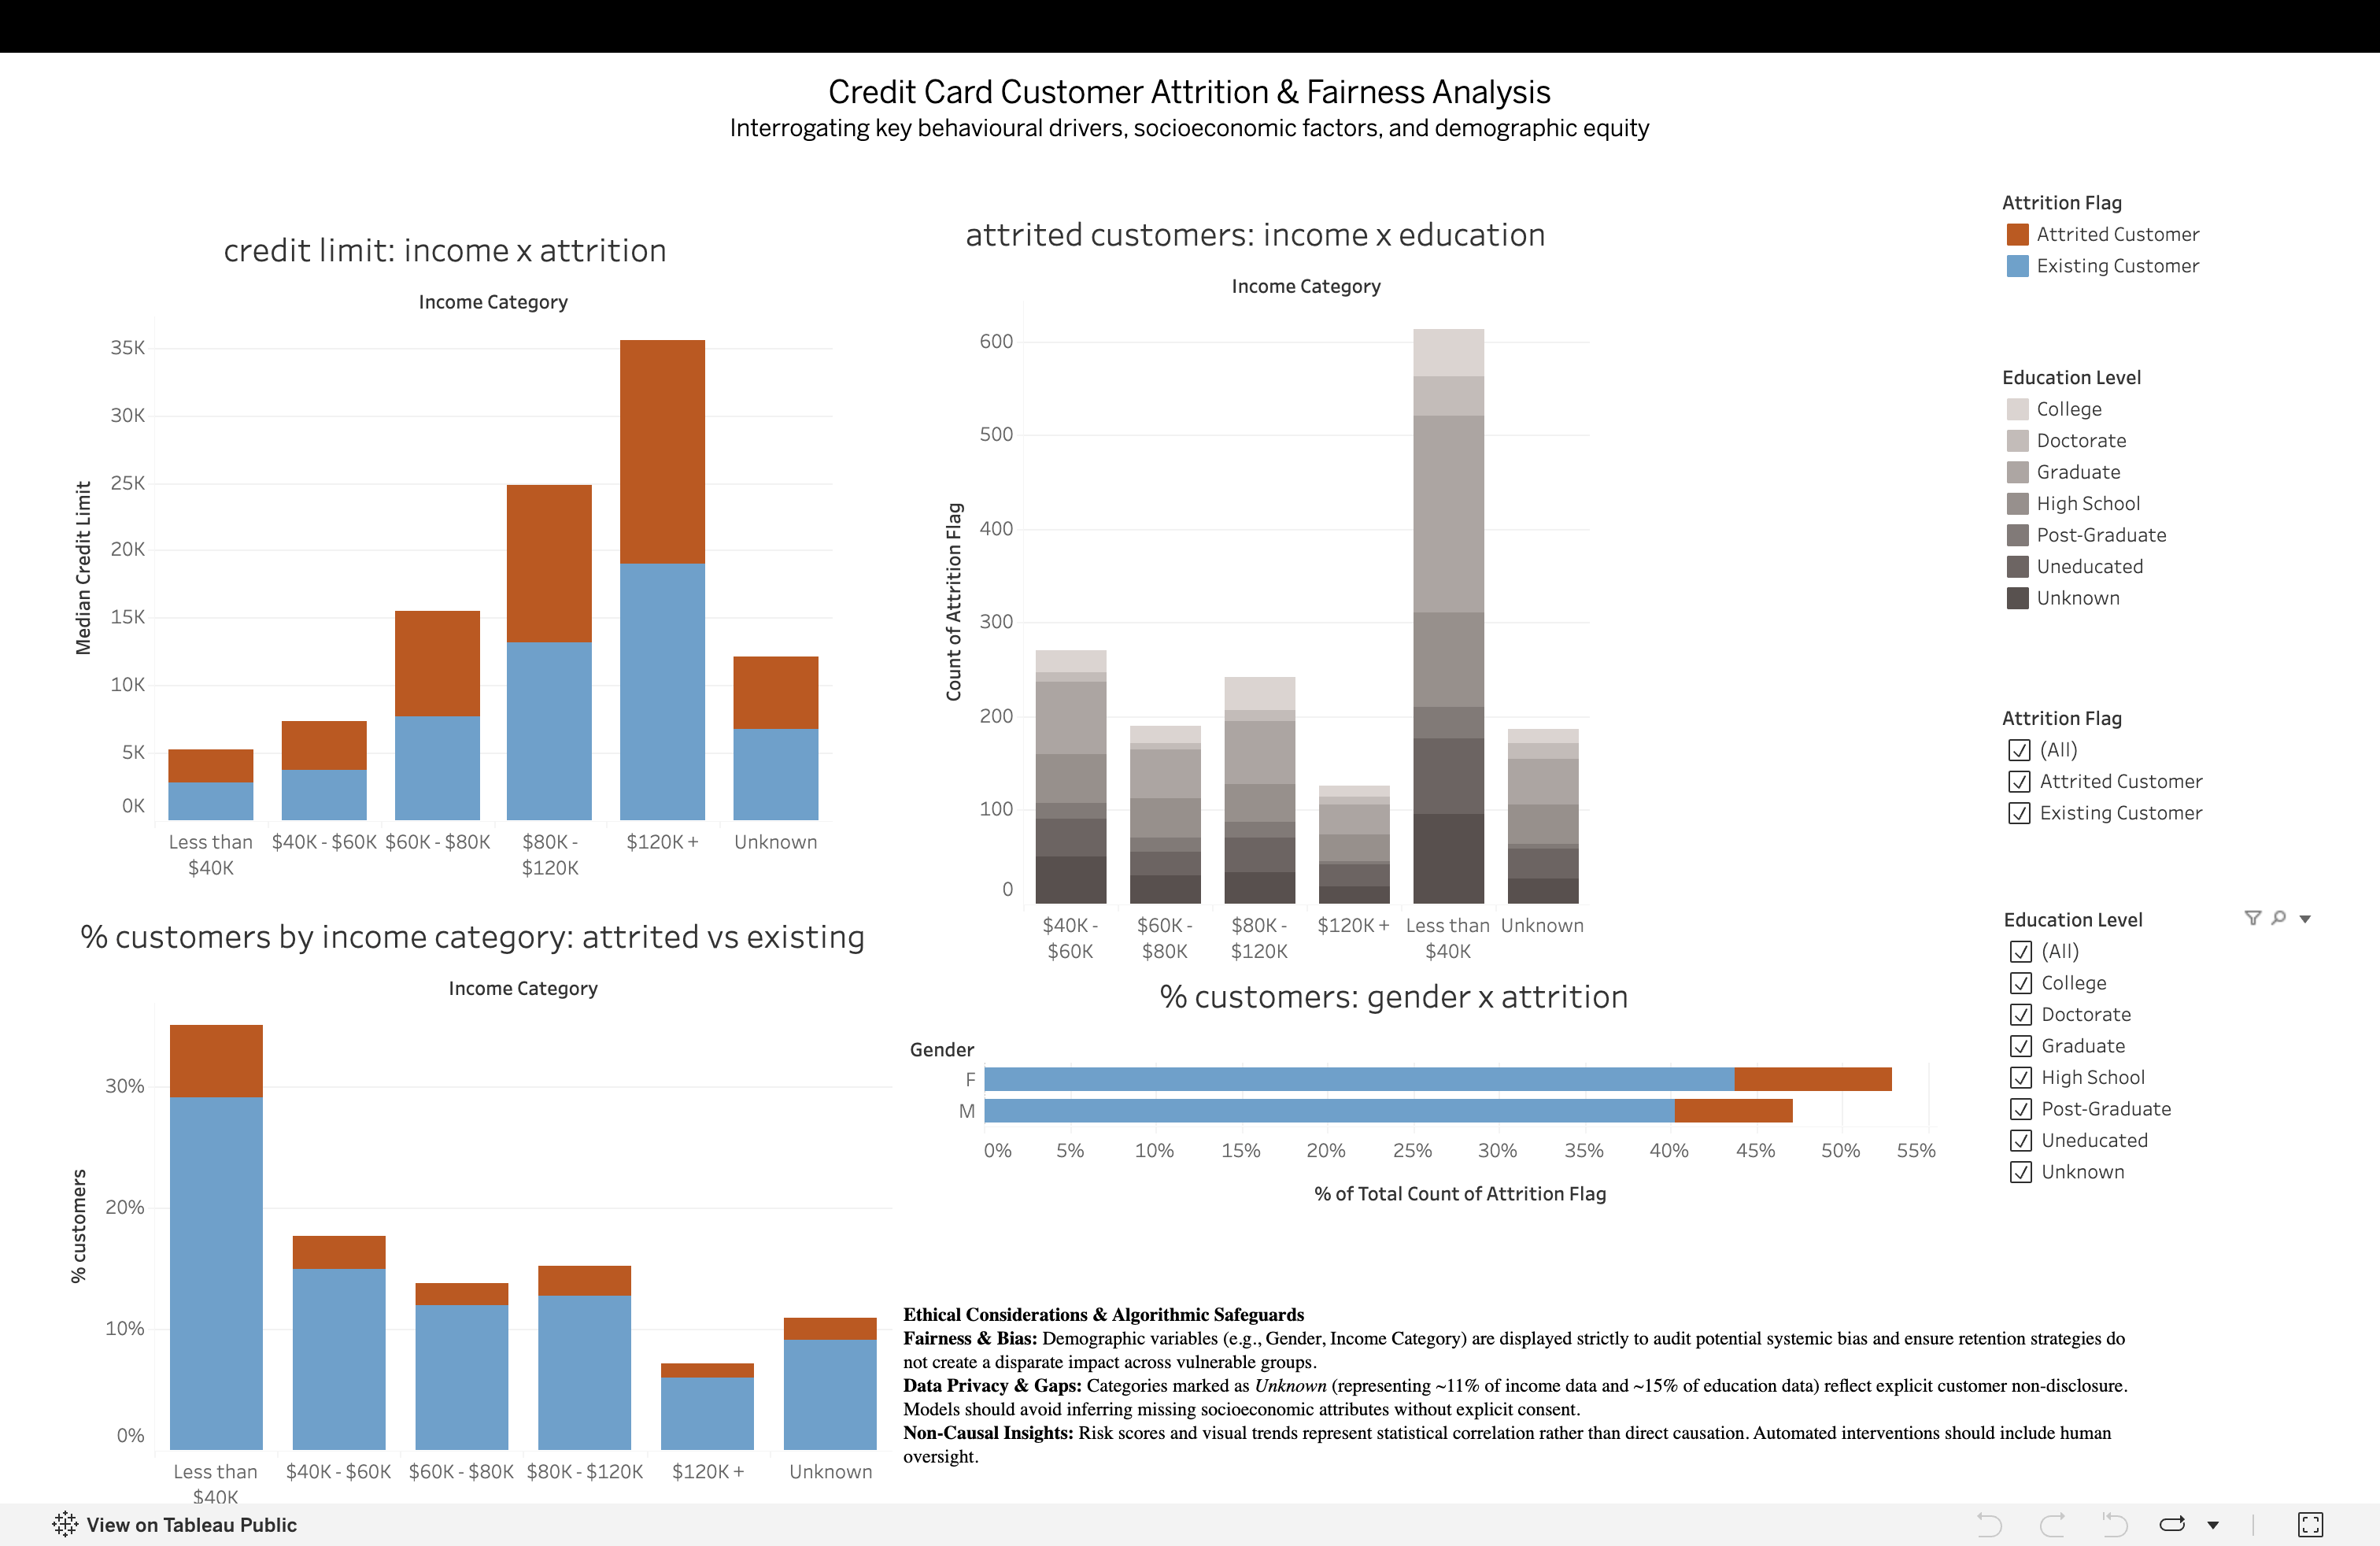

The page's visual inventory and layout, read from the dashboard file:
{"tool":"tableau","page":{"name":"Credit_Card_Dashboard","canvas":[1000,1000],"units":"permille","ordinal":0},"visuals":[{"type":"text","box":[7.5,10.5,985,69.7]},{"type":"legend","title":"Sheet 2","param":"[federated.0e7et2x1sfi098144jios0z3pdni].[none:Attrition_Flag:nk]","box":[841.1,94.7,103.9,81.6]},{"type":"worksheet","title":"Sheet 4","mark":"Automatic","rows":["Attrition_Flag"],"cols":["Income_Category"],"box":[390,102.7,570.5,527.4]},{"type":"worksheet","title":"Sheet 3","mark":"Automatic","rows":["Credit_Limit"],"cols":["Income_Category"],"box":[24.6,114.4,325.1,458.6]},{"type":"legend","title":"Sheet 4","param":"[federated.0e7et2x1sfi098144jios0z3pdni].[none:Education_Level:nk]","box":[841.1,214.5,104.8,184.2]},{"type":"filter","title":"Sheet 3","param":"[federated.0e7et2x1sfi098144jios0z3pdni].[none:Attrition_Flag:nk]","box":[841.1,448.7,119.7,104]},{"type":"filter","title":"Sheet 4","param":"[federated.0e7et2x1sfi098144jios0z3pdni].[none:Education_Level:nk]","box":[841.9,588.2,131.9,252.6]},{"type":"worksheet","title":"Sheet 2","mark":"Automatic","rows":["Gender"],"box":[332.6,631.3,453.4,217]},{"type":"text","box":[379.9,838.2,514.4,159.2]}]}

Visuals, with their boxes on the dashboard's canvas, which has no fixed pixel size, in thousandths of its width and height (x1, y1, x2, y2). These are canvas units, not pixel positions in the 2380x1546 screenshot, which may show the page scaled, cropped or inside an application window:
text: [8,10,992,80]
"Sheet 2" legend: [841,95,945,176]
"Sheet 4" worksheet: [390,103,960,630]
"Sheet 3" worksheet: [25,114,350,573]
"Sheet 4" legend: [841,214,946,399]
"Sheet 3" filter: [841,449,961,553]
"Sheet 4" filter: [842,588,974,841]
"Sheet 2" worksheet: [333,631,786,848]
text: [380,838,894,997]
